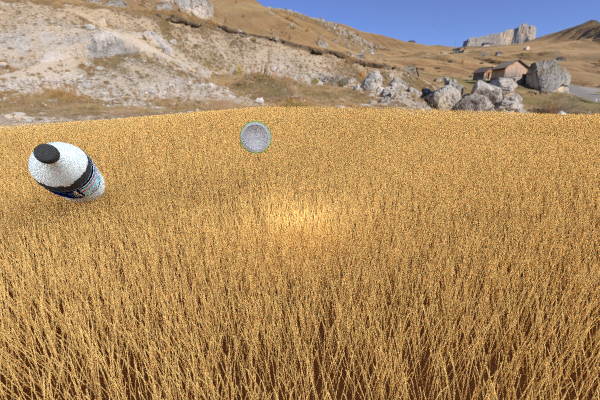Plastic Bottle: (28, 142, 105, 203), (375, 133, 476, 179), (239, 121, 271, 153)
